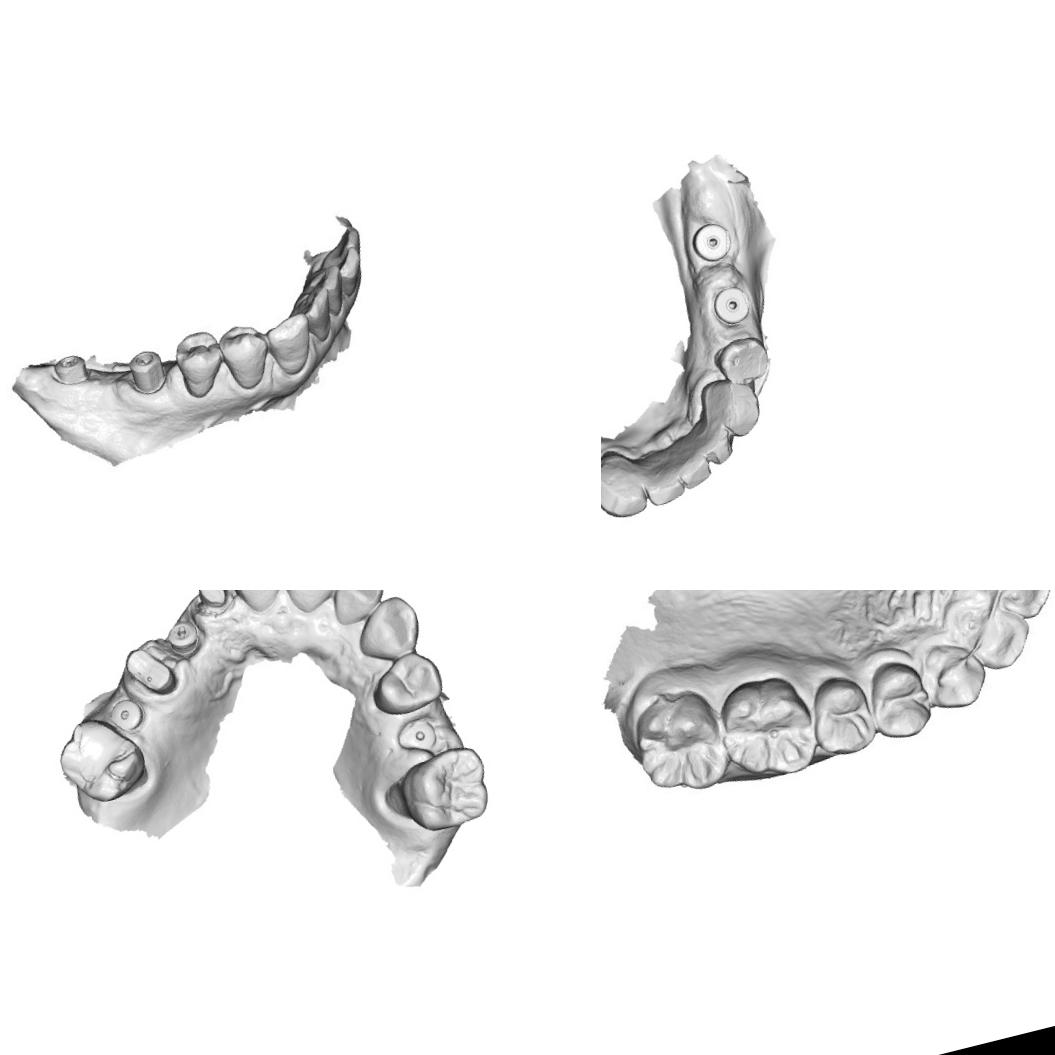canine: (914, 632, 992, 716), (346, 590, 428, 667), (697, 370, 768, 444), (261, 309, 321, 380)
crown: (117, 638, 182, 705), (189, 590, 233, 616)
implant: (685, 215, 737, 267), (123, 344, 171, 399), (707, 280, 756, 329), (46, 348, 92, 392), (396, 711, 442, 755), (104, 694, 148, 736)
implant_minus: (161, 616, 205, 662)
incisor: (960, 599, 1038, 676), (601, 442, 650, 524), (636, 445, 688, 509), (662, 431, 714, 493), (690, 413, 741, 469), (298, 283, 342, 345), (329, 243, 372, 304), (308, 260, 352, 319), (323, 590, 390, 627), (984, 590, 1055, 624), (314, 224, 368, 268), (218, 590, 297, 620), (272, 590, 349, 616)
molar: (709, 666, 825, 788), (623, 680, 734, 802), (388, 738, 498, 839), (47, 708, 153, 812)
premolar: (859, 652, 938, 746), (800, 669, 879, 761), (363, 644, 448, 720), (166, 324, 232, 402), (213, 318, 278, 393), (708, 330, 774, 392)
